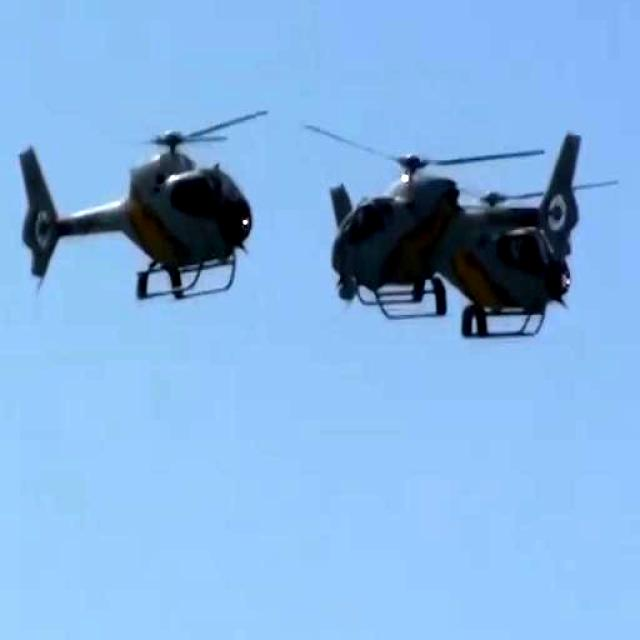drone: (298, 81, 616, 325), (4, 72, 268, 325)
